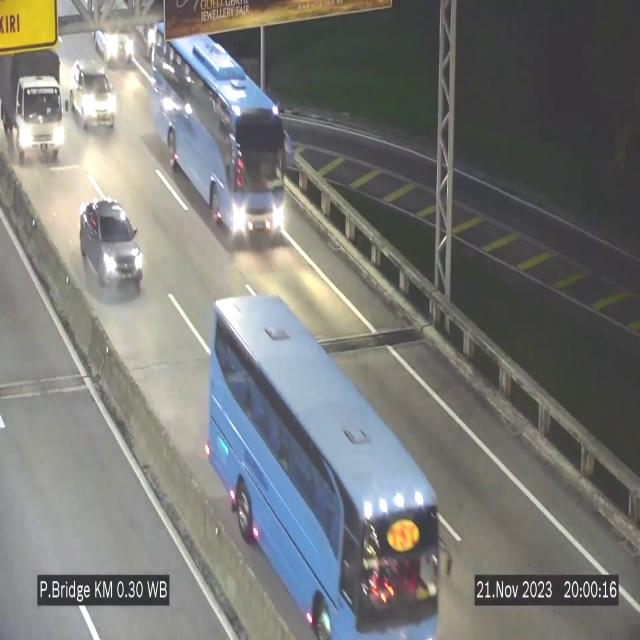Bus: (204, 292, 456, 640), (149, 26, 293, 246)
Car: (80, 199, 142, 293), (68, 55, 115, 136)
Truck: (2, 45, 60, 167)
